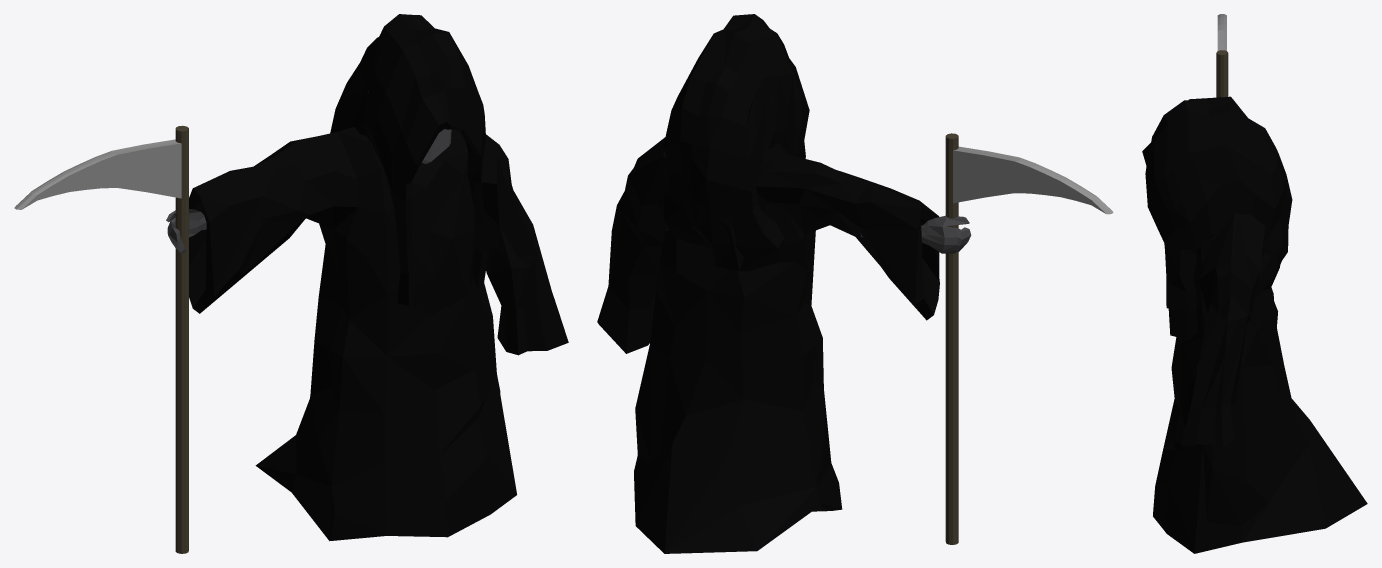
The model's file is The Reaper (1).fbx.
The picture shows the model from 3 angles, left to right: view 1: azimuth 30°, elevation 25°; view 2: azimuth 150°, elevation 25°; view 3: azimuth 270°, elevation 25°; orthographic projection. The views are drawn at different scales.
Visible parts, largest first — view 1: The_Reaper; view 2: The_Reaper; view 3: The_Reaper.
Part boxes in pixels (box(x1,y1,x2,y2)): The_Reaper: box(14, 14, 568, 553); The_Reaper: box(597, 14, 1113, 553); The_Reaper: box(1142, 14, 1367, 553).
Bounding box in the file's own units: 221 × 194 × 94.53.
